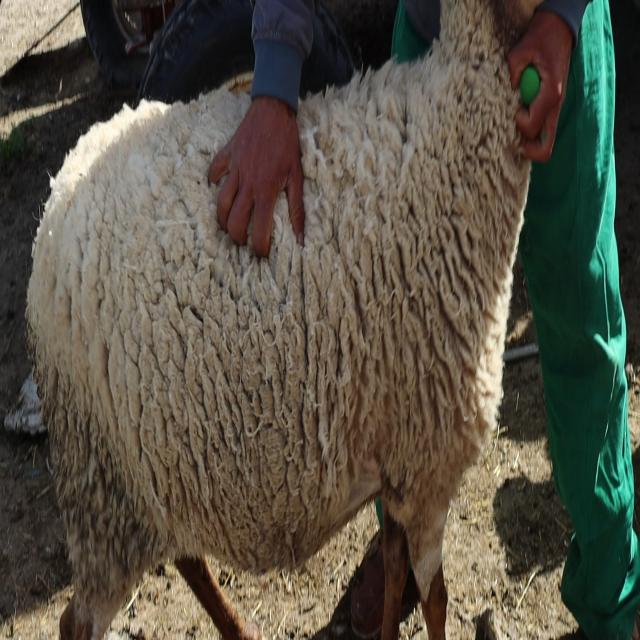Score_5: (26, 0, 537, 639)
